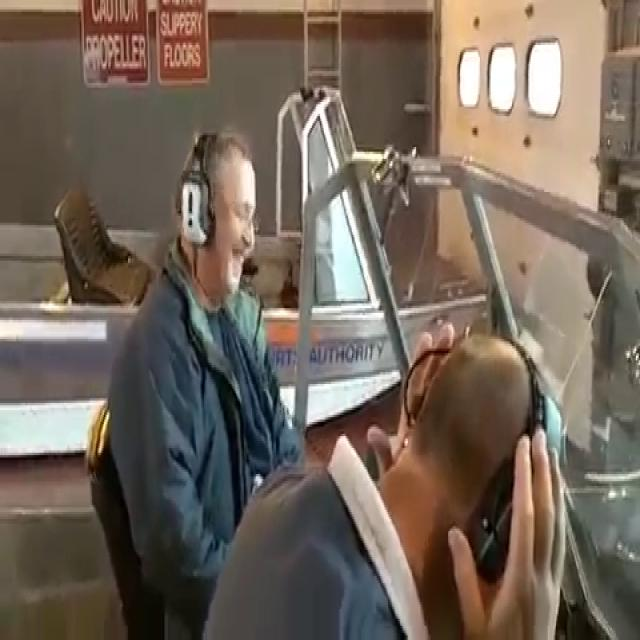earmuff: (173, 164, 218, 252)
